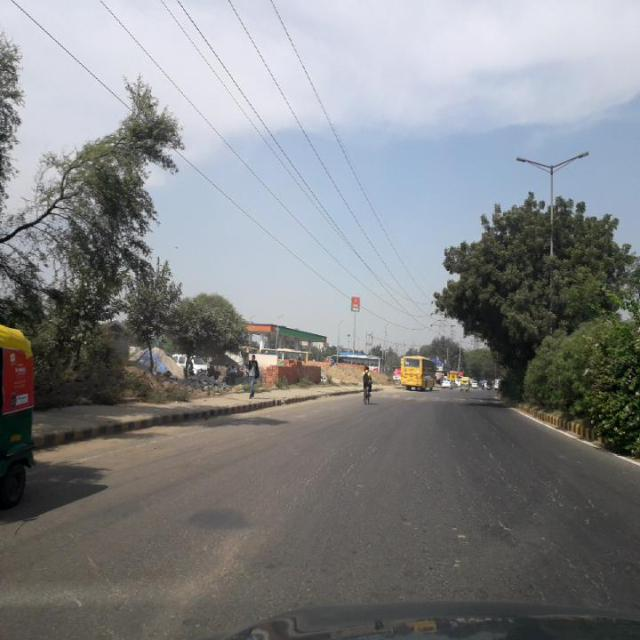D00: (497, 472, 627, 590)
